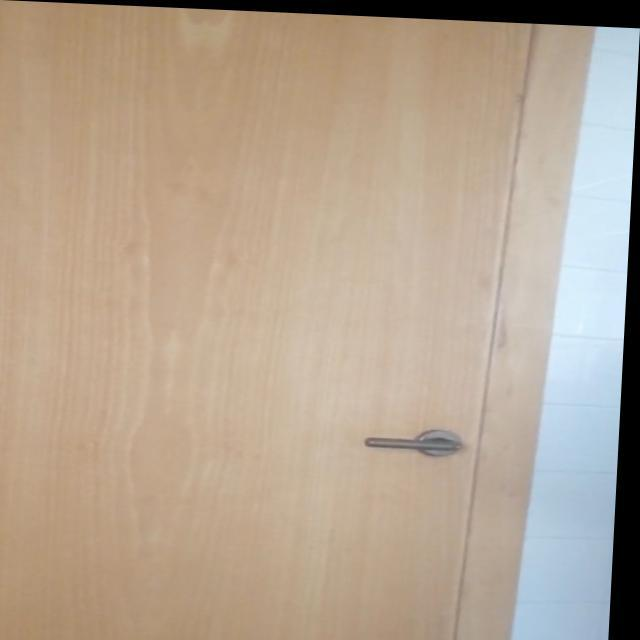door_handle: (365, 428, 471, 450)
